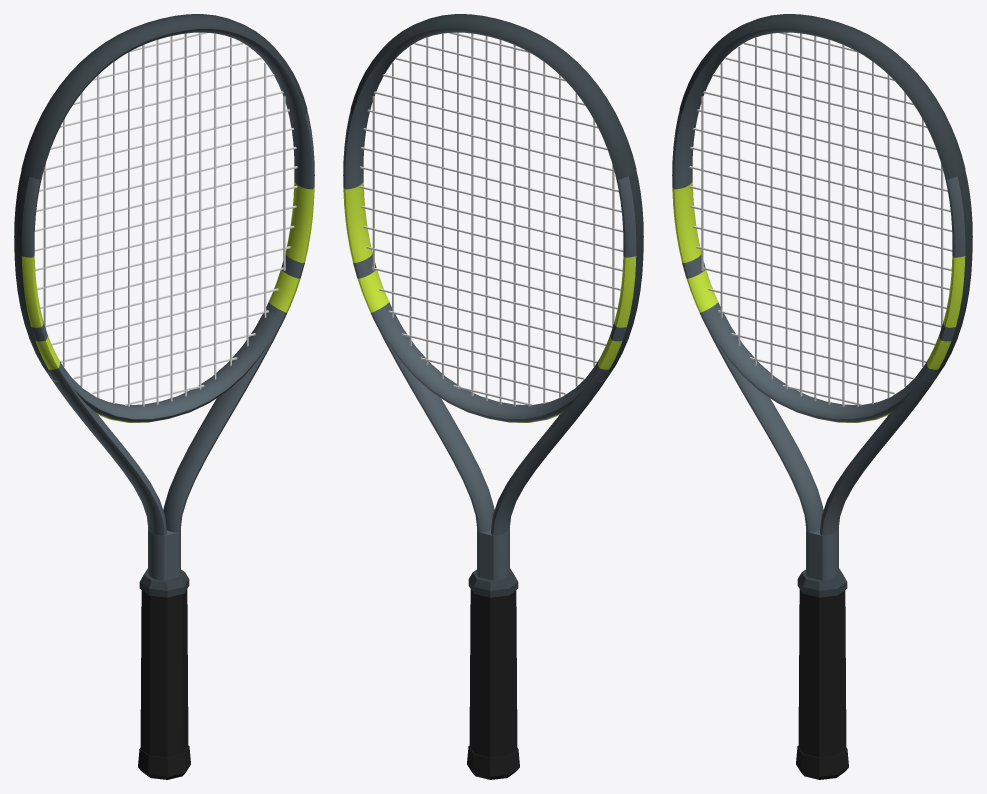
File: babolat-pure-aero-junior-26-2026.glb
3 views of the same model, side by side, from view 1: azimuth 30°, elevation 25°; view 2: azimuth 150°, elevation 25°; view 3: azimuth 330°, elevation 25° (orthographic).
Parts seen in each view (by area): view 1: frame, strings_mains, strings_crosses, grip, bumper, grommets, butt_cap, collar; view 2: frame, strings_mains, strings_crosses, grip, bumper, grommets, butt_cap, collar; view 3: frame, strings_mains, strings_crosses, grip, bumper, grommets, butt_cap, collar.
Boxes of the visible parts, x1,y1,x2,y2 form: frame: (14, 29, 314, 580); strings_mains: (43, 32, 285, 406); strings_crosses: (34, 32, 297, 405); grip: (140, 589, 188, 757); bumper: (21, 14, 307, 179); grommets: (14, 171, 49, 371); butt_cap: (138, 745, 190, 779); collar: (139, 568, 189, 597); frame: (343, 29, 643, 580); strings_mains: (372, 32, 614, 406); strings_crosses: (360, 32, 623, 406); grip: (469, 589, 517, 757); bumper: (350, 14, 636, 179); grommets: (608, 171, 643, 371); butt_cap: (467, 745, 519, 779); collar: (468, 568, 518, 597); frame: (672, 29, 972, 580); strings_mains: (701, 32, 943, 406); strings_crosses: (689, 32, 952, 405); grip: (798, 589, 846, 757); bumper: (679, 14, 965, 179); grommets: (937, 171, 972, 371); butt_cap: (796, 745, 848, 779); collar: (797, 568, 847, 597).
Bounding box in the file's own units: 0.2718 × 0.6607 × 0.0396.
